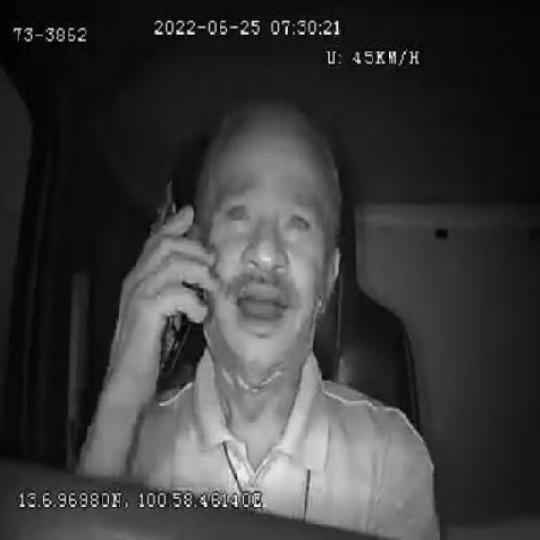phone: (150, 172, 198, 388)
